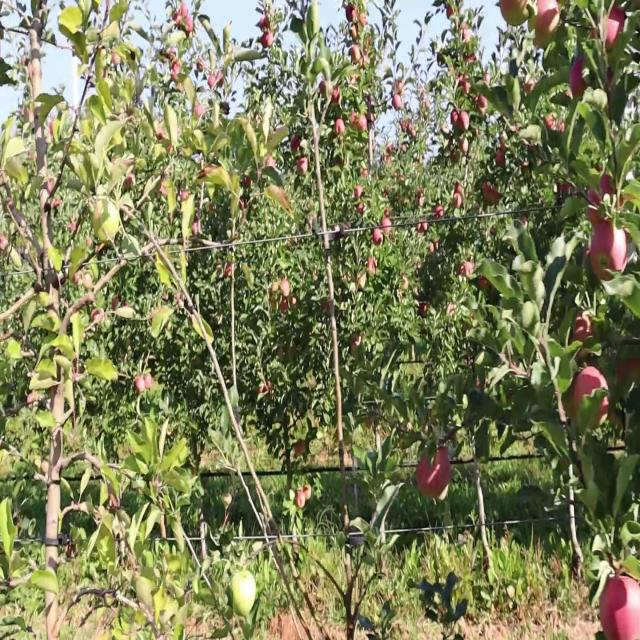apple: (600, 575, 640, 639), (588, 220, 624, 283), (416, 447, 452, 500), (576, 369, 611, 420), (600, 575, 627, 638), (616, 575, 640, 639), (600, 14, 627, 55), (232, 575, 256, 619), (536, 1, 561, 39), (609, 227, 629, 274), (572, 319, 596, 357), (600, 177, 626, 210), (608, 7, 627, 50), (500, 0, 527, 28), (616, 355, 640, 386), (572, 56, 588, 100), (588, 191, 607, 228), (48, 604, 66, 639), (588, 191, 603, 228), (260, 14, 275, 43), (260, 28, 275, 50), (300, 483, 312, 510), (496, 142, 507, 169), (452, 184, 464, 208), (344, 447, 356, 471), (236, 199, 249, 220), (280, 277, 292, 299), (124, 170, 136, 192), (184, 14, 195, 36), (296, 490, 307, 512), (372, 227, 384, 247), (212, 71, 224, 91), (392, 92, 404, 112), (460, 113, 472, 133), (264, 383, 276, 402), (260, 383, 275, 398), (352, 334, 363, 354), (172, 63, 182, 85), (484, 184, 494, 204), (160, 177, 169, 199), (368, 255, 377, 276), (296, 440, 307, 457), (356, 277, 368, 292), (476, 376, 488, 391), (300, 156, 308, 178), (332, 85, 340, 107), (136, 376, 146, 393), (92, 312, 105, 325), (192, 220, 201, 238), (360, 113, 368, 133), (548, 113, 556, 133), (336, 120, 346, 135), (196, 106, 206, 121), (144, 376, 154, 391), (268, 156, 278, 171), (156, 127, 166, 142), (292, 135, 300, 153), (364, 35, 372, 53), (180, 191, 191, 204), (276, 191, 287, 204), (348, 7, 358, 21), (352, 49, 361, 64), (112, 298, 121, 313), (244, 177, 253, 192), (224, 263, 233, 277), (284, 348, 295, 359), (384, 220, 392, 235), (352, 28, 360, 43), (280, 298, 288, 313), (324, 298, 332, 313), (360, 14, 368, 28), (216, 263, 224, 277), (468, 263, 476, 277), (464, 28, 471, 44), (168, 49, 176, 62), (272, 284, 279, 297), (452, 113, 459, 126), (352, 113, 358, 128), (280, 348, 286, 363), (176, 14, 182, 28), (460, 263, 466, 277), (292, 298, 299, 308), (320, 85, 327, 94), (356, 191, 363, 199), (364, 56, 369, 64)
